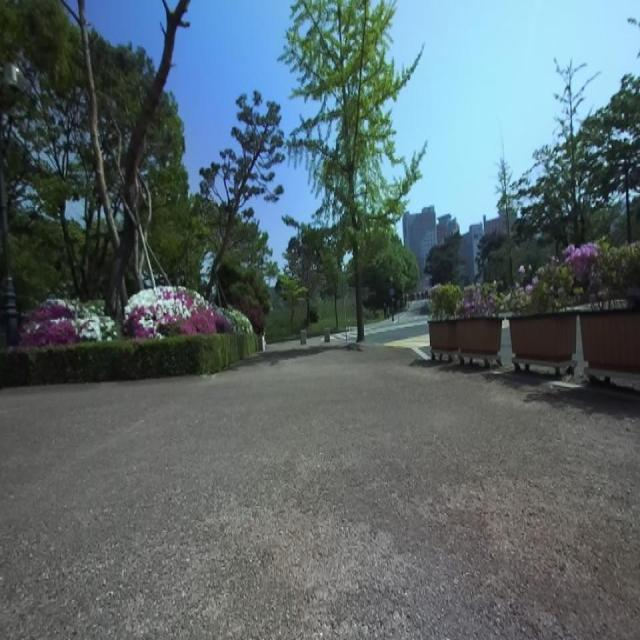sidewalk: (0, 341, 640, 639)
